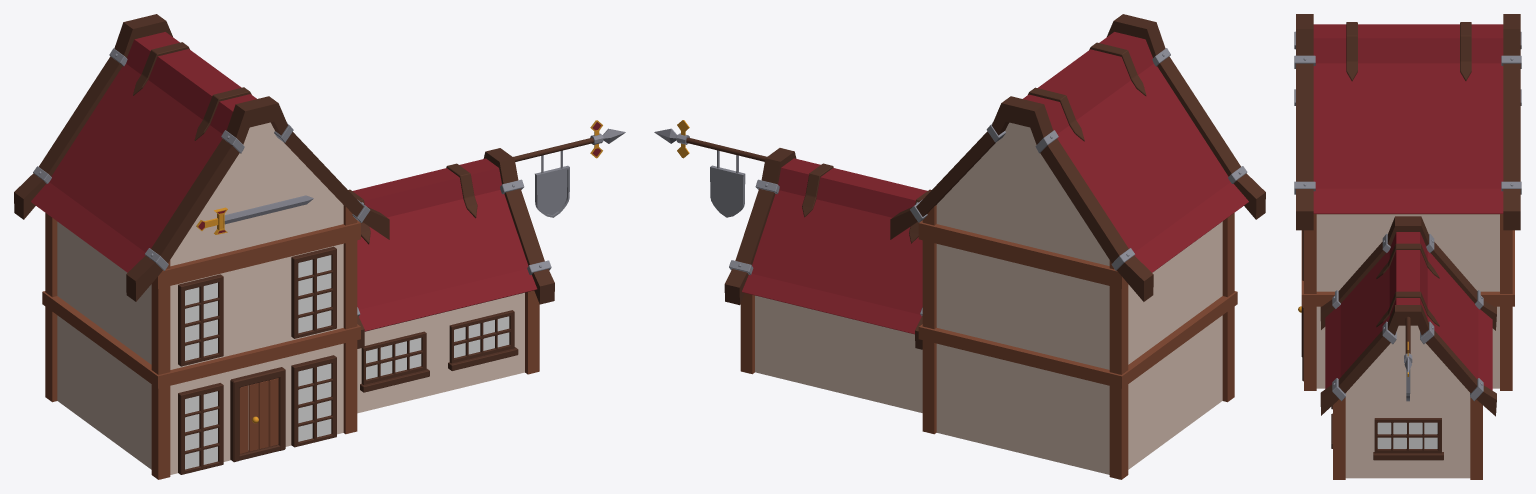
File: Armory_Upgrade_2.fbx
3 renders of one model, left to right at view 1: azimuth 30°, elevation 25°; view 2: azimuth 150°, elevation 25°; view 3: azimuth 270°, elevation 25°, orthographic. The views are drawn at different scales.
Visible parts, largest first — view 1: Spear; view 2: Spear; view 3: Spear.
Part boxes in pixels (x1,y1,x2,y2): Spear: [14, 14, 625, 479]; Spear: [654, 14, 1265, 479]; Spear: [1294, 14, 1521, 479].
Bounding box in the file's own units: 1251 × 764 × 485.
